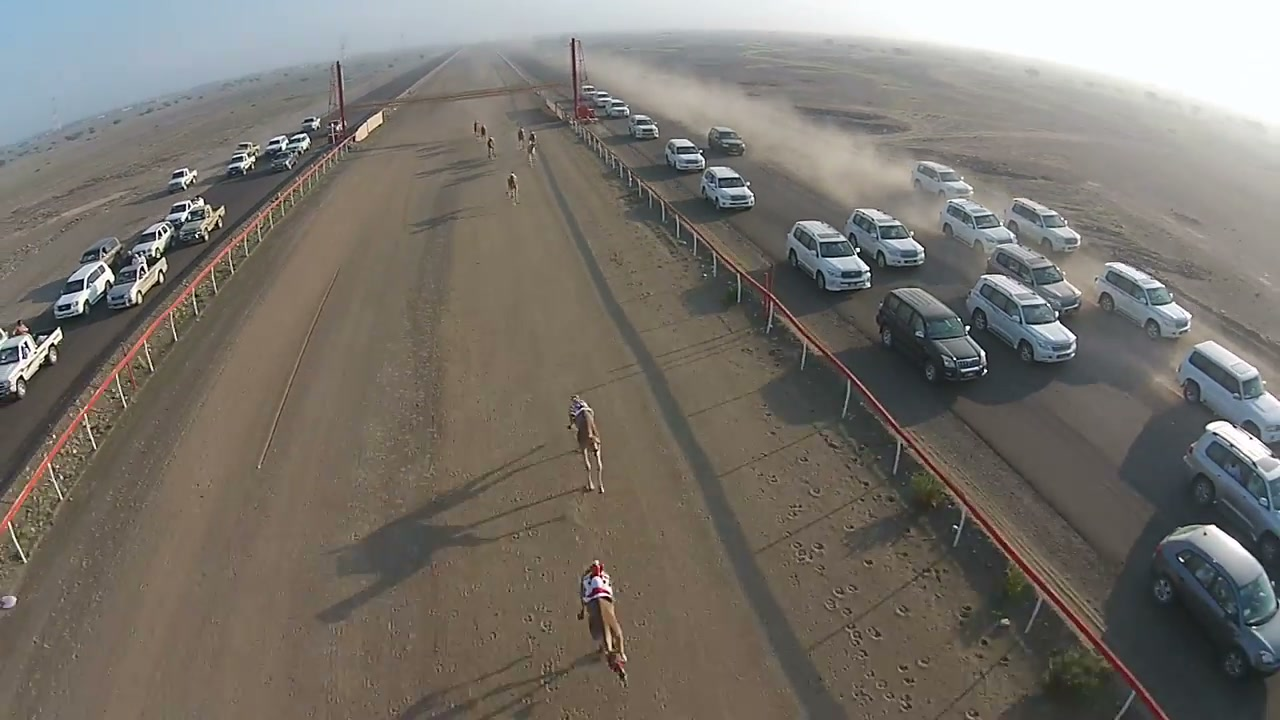animal_foot_print: (682, 318, 933, 711), (495, 482, 571, 700)
